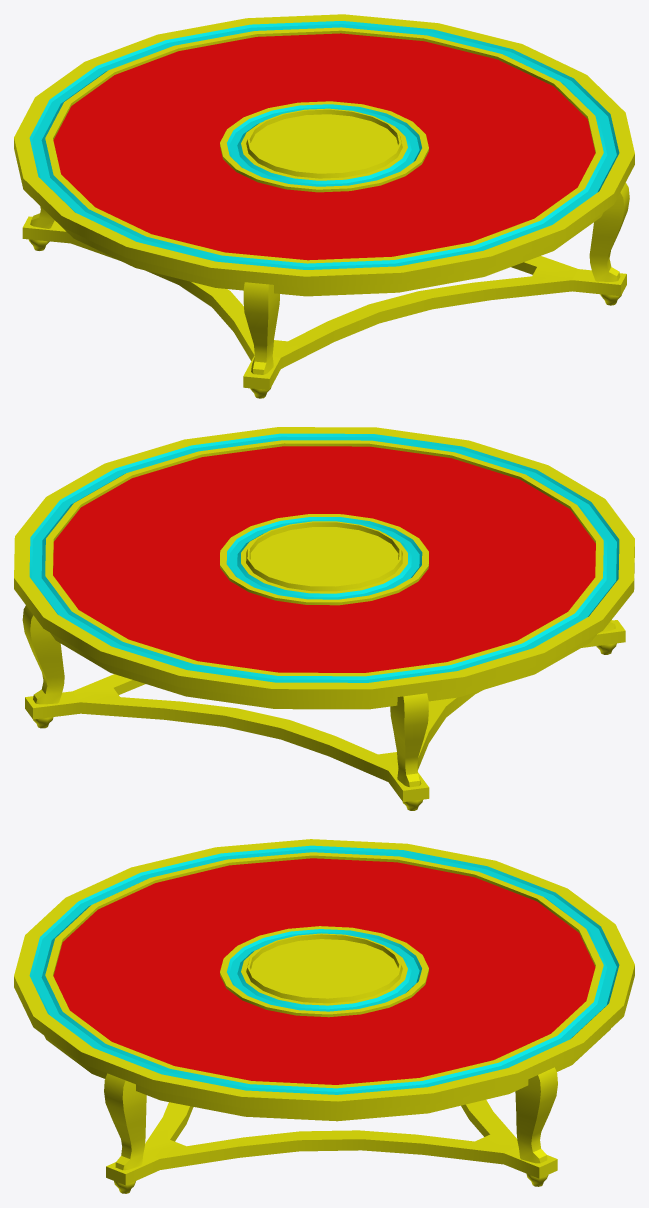
Rendered from LivingRoom_CoffeeTable.fbx.
The picture shows the model from 3 angles, top to bottom: view 1: azimuth 30°, elevation 25°; view 2: azimuth 150°, elevation 25°; view 3: azimuth 270°, elevation 25°; orthographic projection.
Parts seen in each view (by area): view 1: LivingRoom_CoffeeTable; view 2: LivingRoom_CoffeeTable; view 3: LivingRoom_CoffeeTable.
Part boxes in pixels (left/top/right/bottom): LivingRoom_CoffeeTable: left=14, top=14, right=634, bottom=398; LivingRoom_CoffeeTable: left=14, top=427, right=634, bottom=810; LivingRoom_CoffeeTable: left=14, top=839, right=634, bottom=1193.
Size of the model in its own units: 257 by 61.42 by 257.
